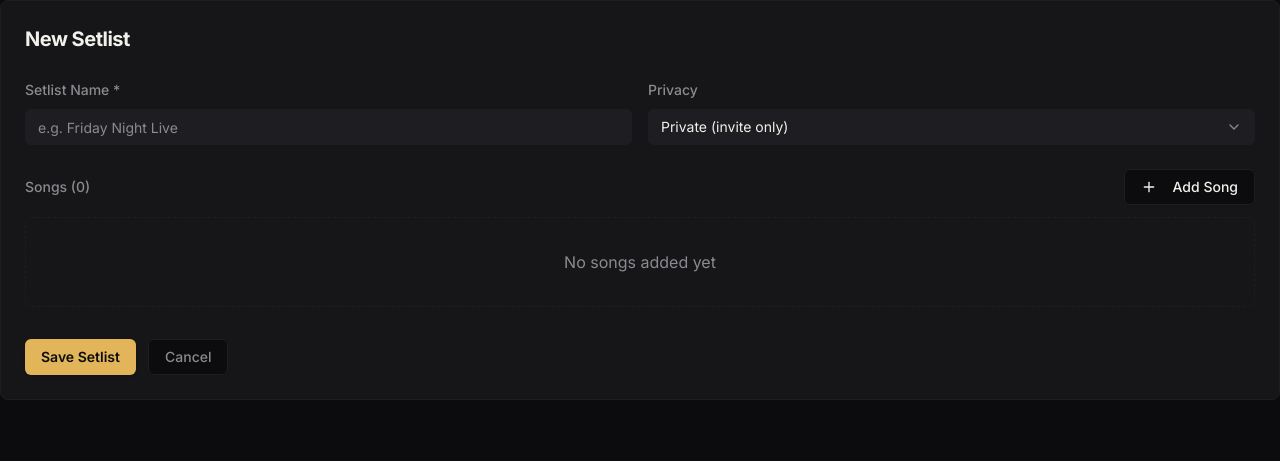
Scenario: SetlistEditor › shows error when setlist name is empty on save
This screenshot has width=1280, height=461.
What coordinates should you click on to do the following:
click the button "Save Setlist"
I would click on:
 (80, 357)
Its box is [25, 339, 136, 375].
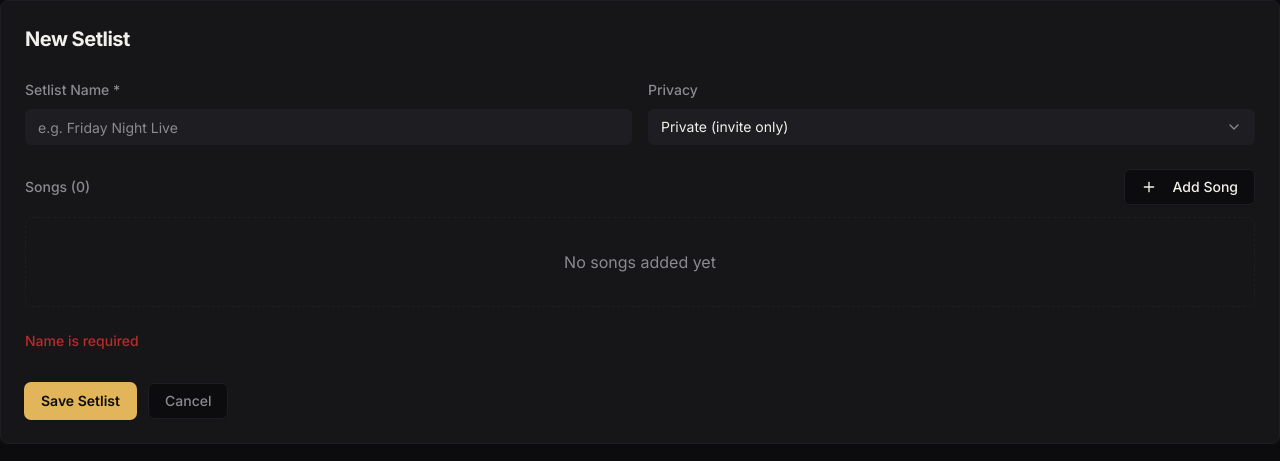
Now the text "Name is required" is shown, box [25, 332, 139, 349]
